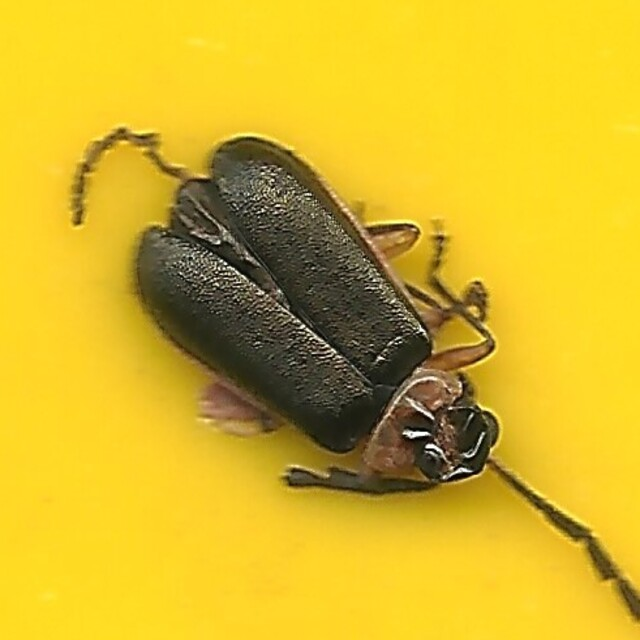Coleoptera: (130, 139, 510, 501)
